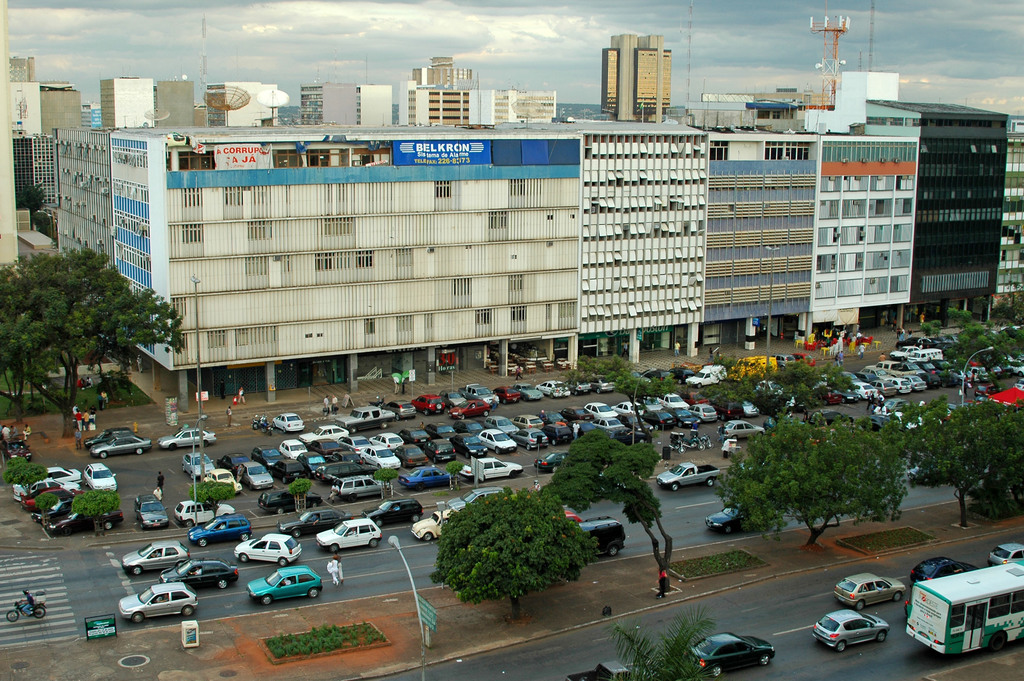cars: (113, 326, 1023, 626), (25, 460, 126, 528), (690, 633, 773, 680), (568, 508, 634, 565), (810, 609, 891, 655), (829, 571, 915, 610), (241, 565, 323, 603), (651, 459, 718, 495), (81, 423, 152, 456), (910, 550, 969, 578), (129, 492, 174, 528), (156, 426, 211, 451), (988, 541, 1021, 574), (706, 508, 756, 529), (903, 468, 949, 488), (273, 410, 305, 430)
